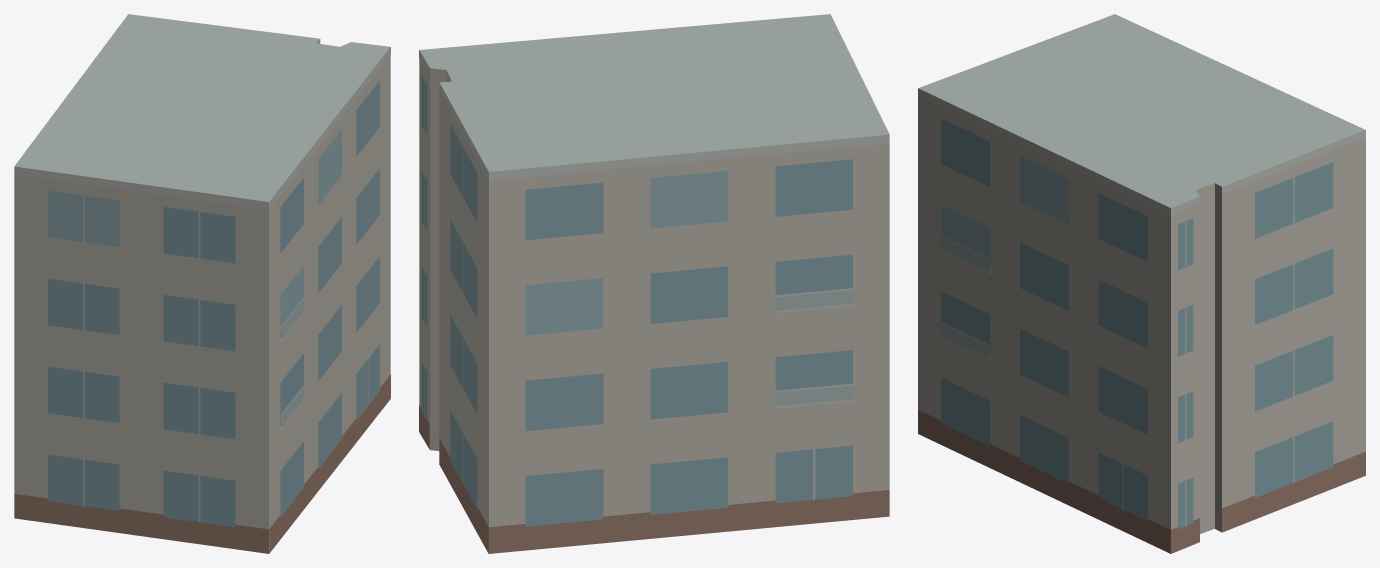
Rendered from survey-upis-32981857.glb.
3 renders of one model, left to right at view 1: azimuth 30°, elevation 25°; view 2: azimuth 150°, elevation 25°; view 3: azimuth 270°, elevation 25°, orthographic. The views are drawn at different scales.
Parts seen in each view (by area): view 1: survey-upis-32981857.tmp; view 2: survey-upis-32981857.tmp; view 3: survey-upis-32981857.tmp.
Part boxes in pixels (box(x1,y1,x2,y2)): survey-upis-32981857.tmp: box(14, 14, 390, 553); survey-upis-32981857.tmp: box(419, 14, 889, 553); survey-upis-32981857.tmp: box(918, 14, 1365, 553).
Bounding box in the file's own units: 13.26 × 11 × 12.92.
